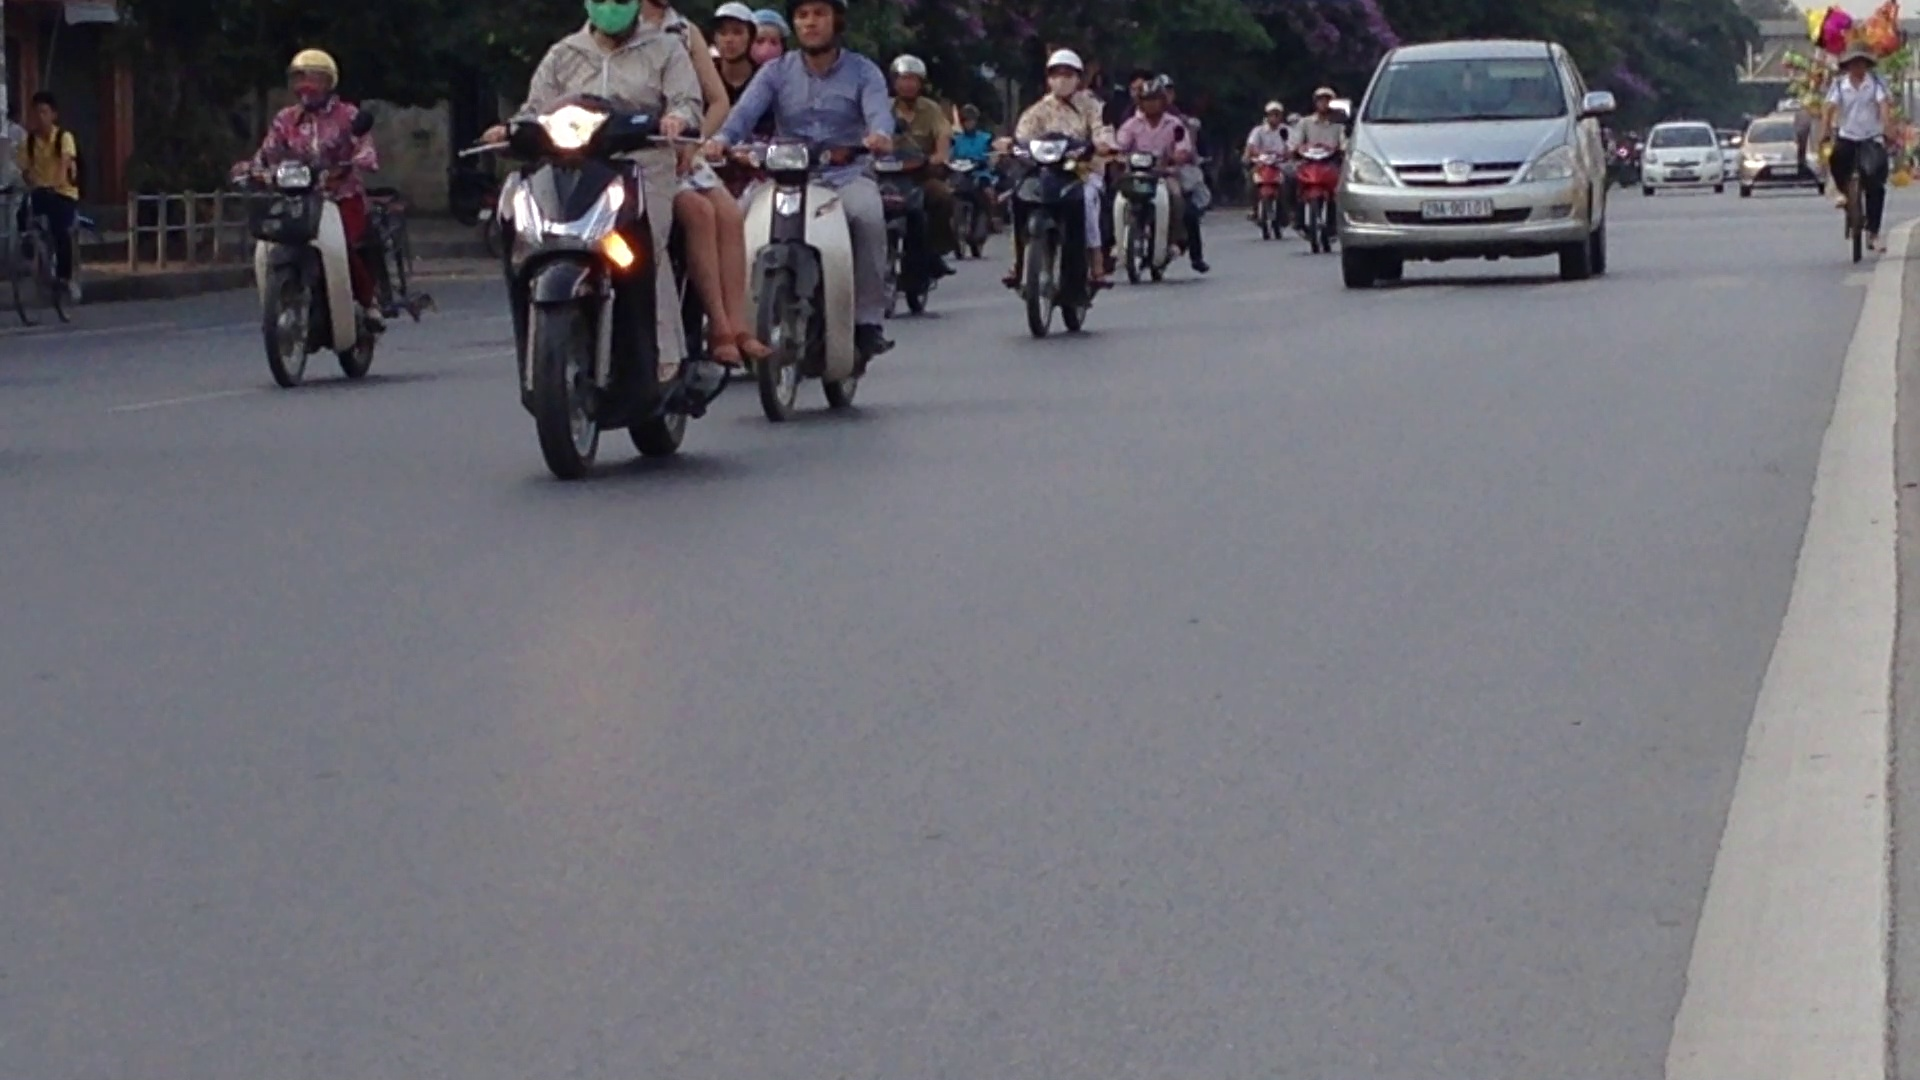vehicle-plate: (1416, 192, 1497, 221)
